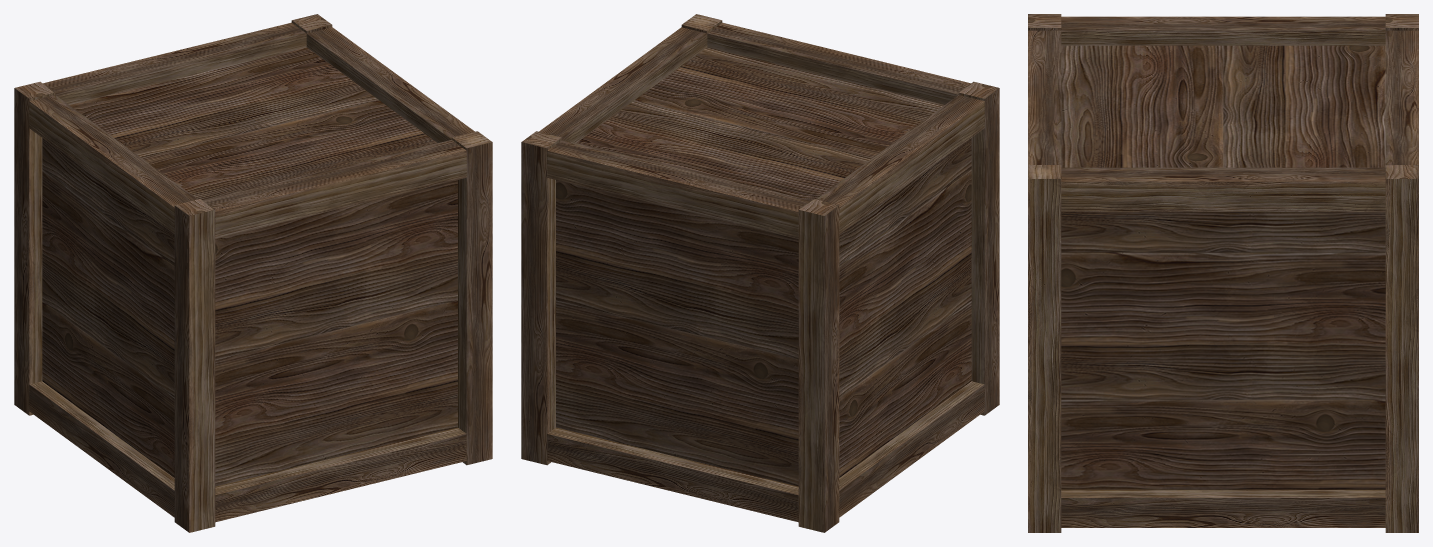
Rendered from storage_box_02.fbx.
3 renders of one model, left to right at view 1: azimuth 30°, elevation 25°; view 2: azimuth 150°, elevation 25°; view 3: azimuth 270°, elevation 25°, orthographic. The views are drawn at different scales.
Parts seen in each view (by area): view 1: storage_box_02; view 2: storage_box_02; view 3: storage_box_02.
Boxes of the visible parts, x1,y1,x2,y2 form: storage_box_02: (14,14,492,532); storage_box_02: (521,14,999,532); storage_box_02: (1028,14,1418,532).
Size of the model in its own units: 71.06 by 70.99 by 71.06.
